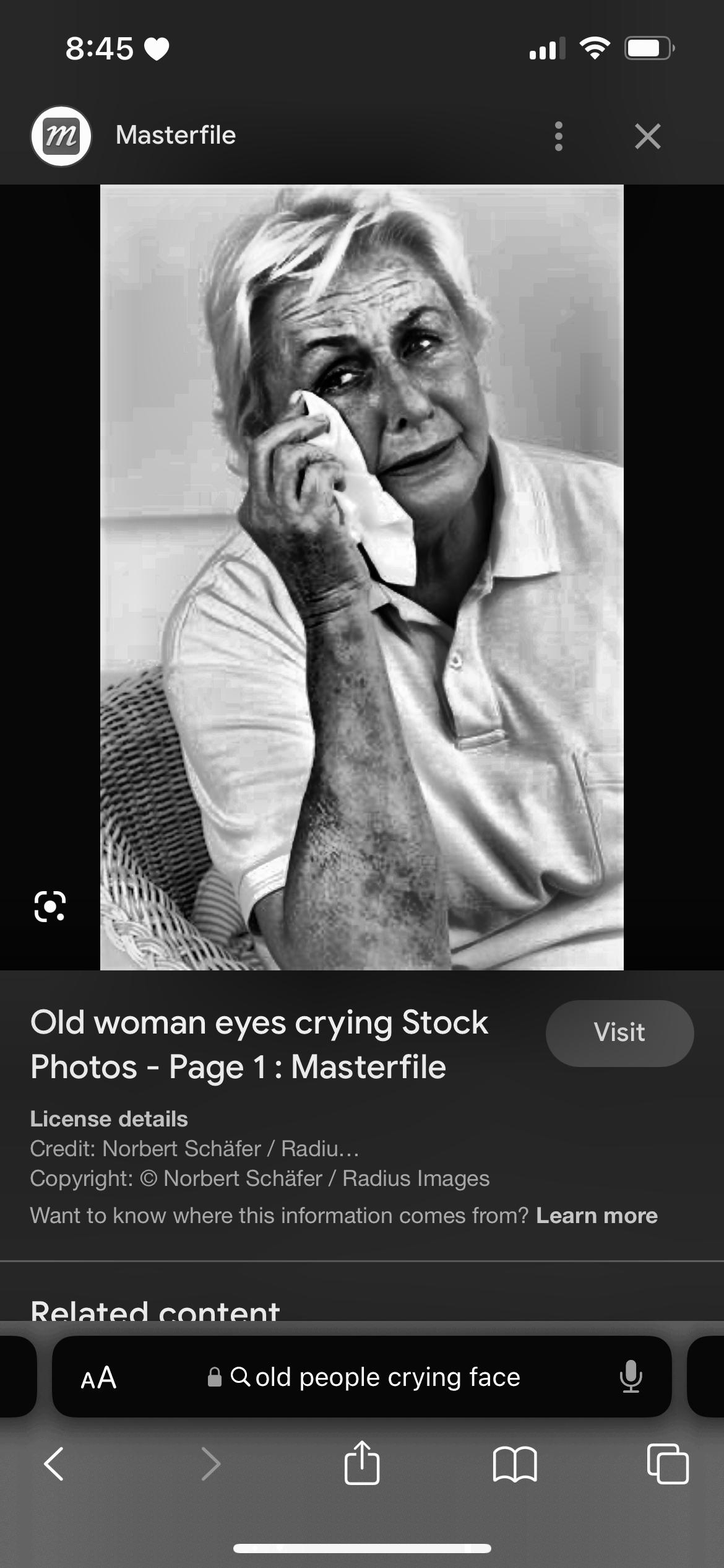sad: (202, 250, 540, 526)
